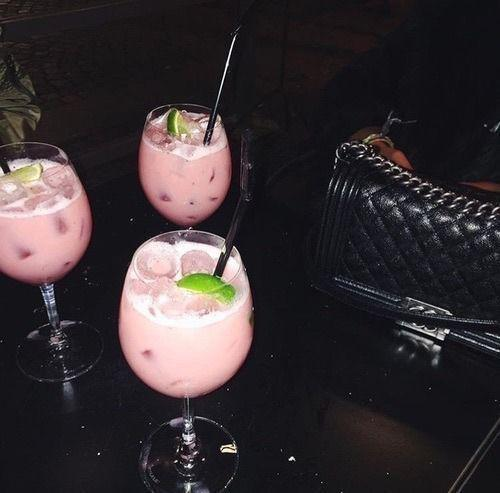glass-wine: (117, 227, 255, 492), (1, 139, 105, 383), (140, 103, 233, 231)
